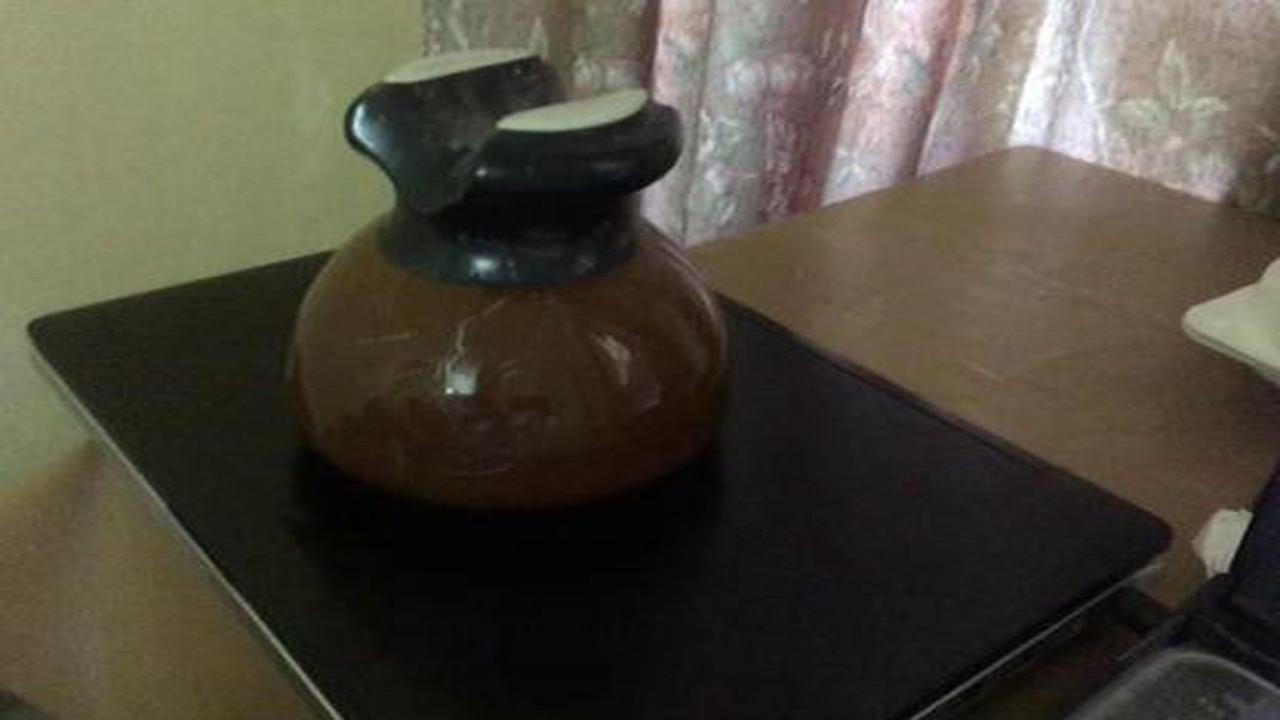insulator_pin: (265, 38, 788, 525)
